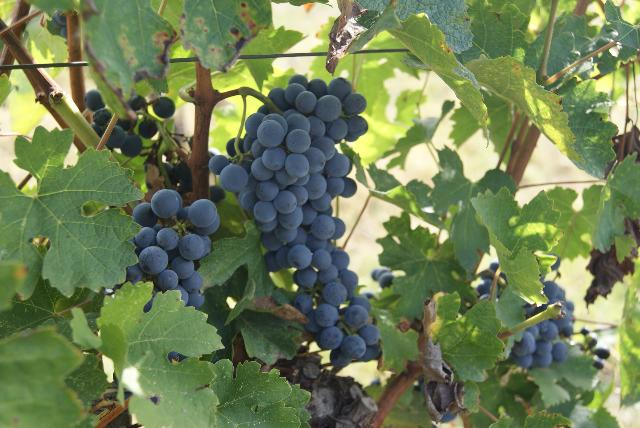grapes: (209, 75, 381, 369)
